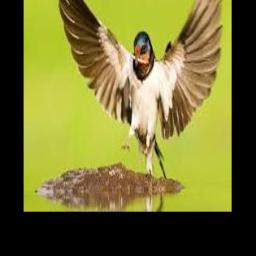Swallow: (53, 0, 222, 177)
